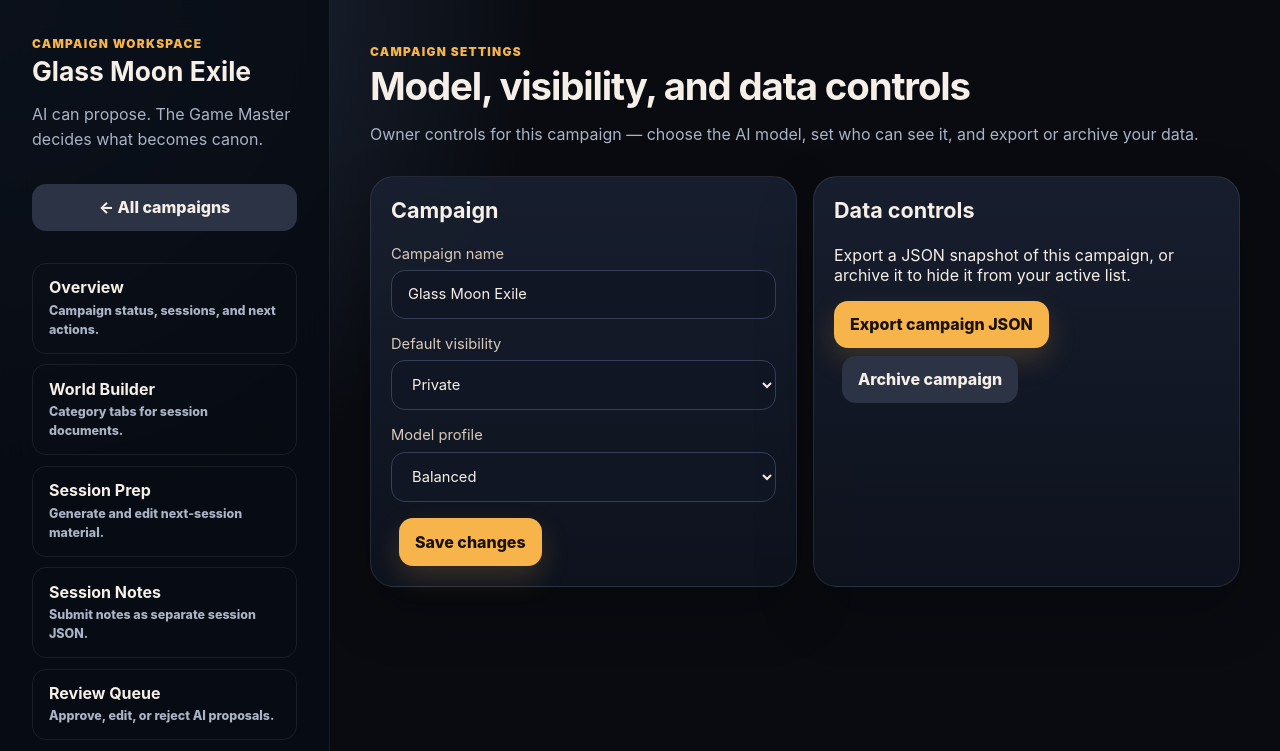
Test case: workspace flows (via the /v1 mock API) › saves campaign settings
The image size is (1280, 751).
Replace the text in the field showing "glass moon exile" with "Glass Moon Reborn" at (584, 294), box [391,270,776,318]
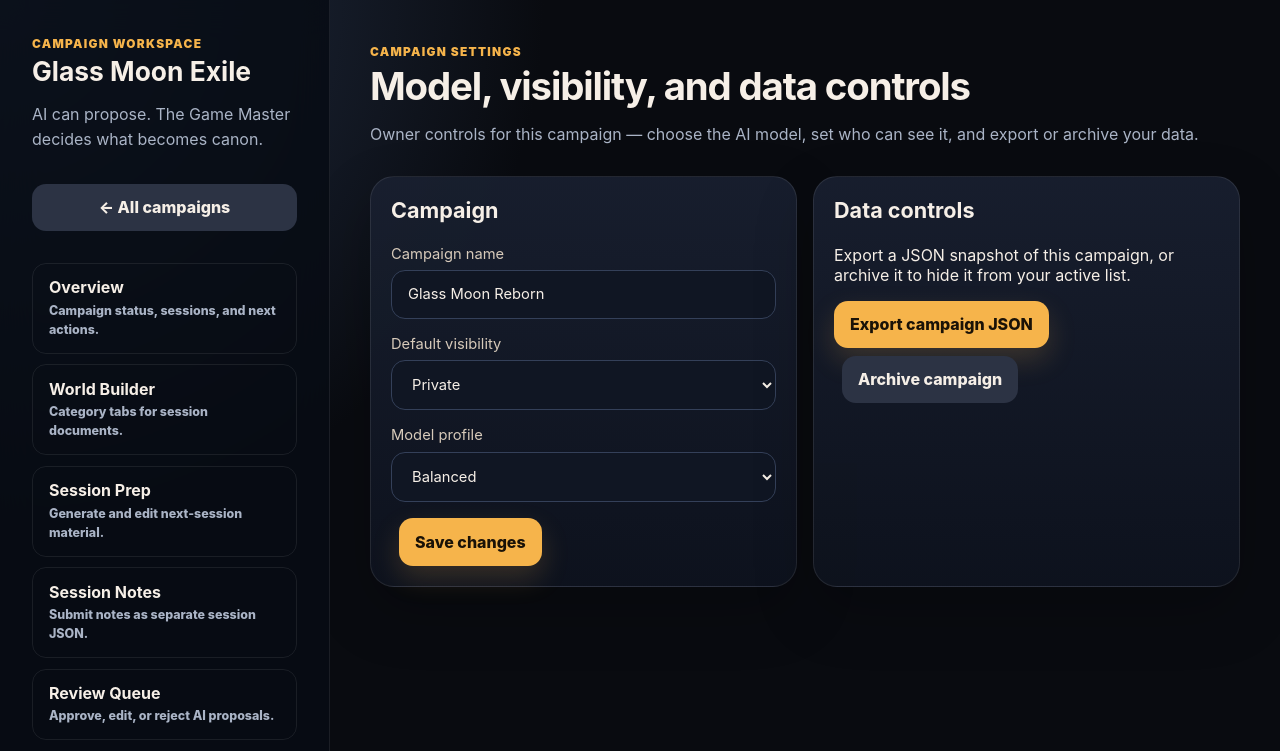
Click the button "Save changes".
click(470, 542)  # box [399,518,542,566]
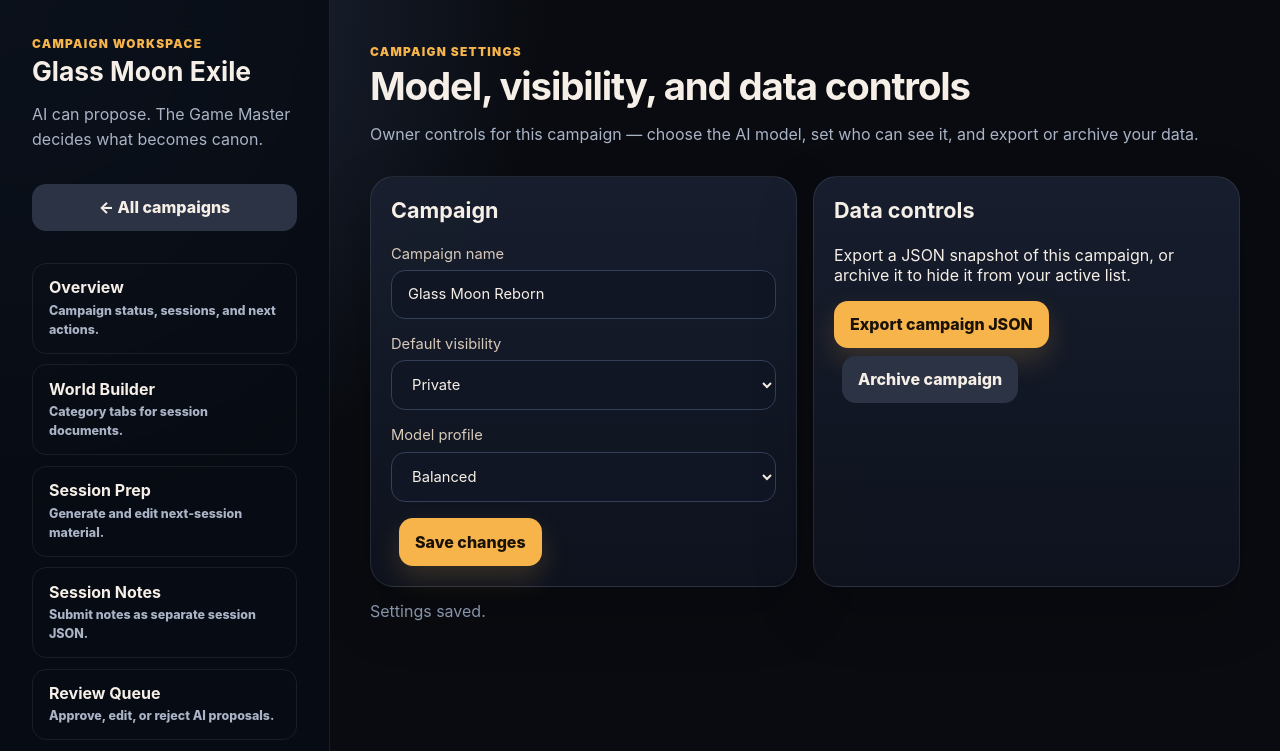
Now the text "Settings saved." is shown, box [370,601,486,621]
